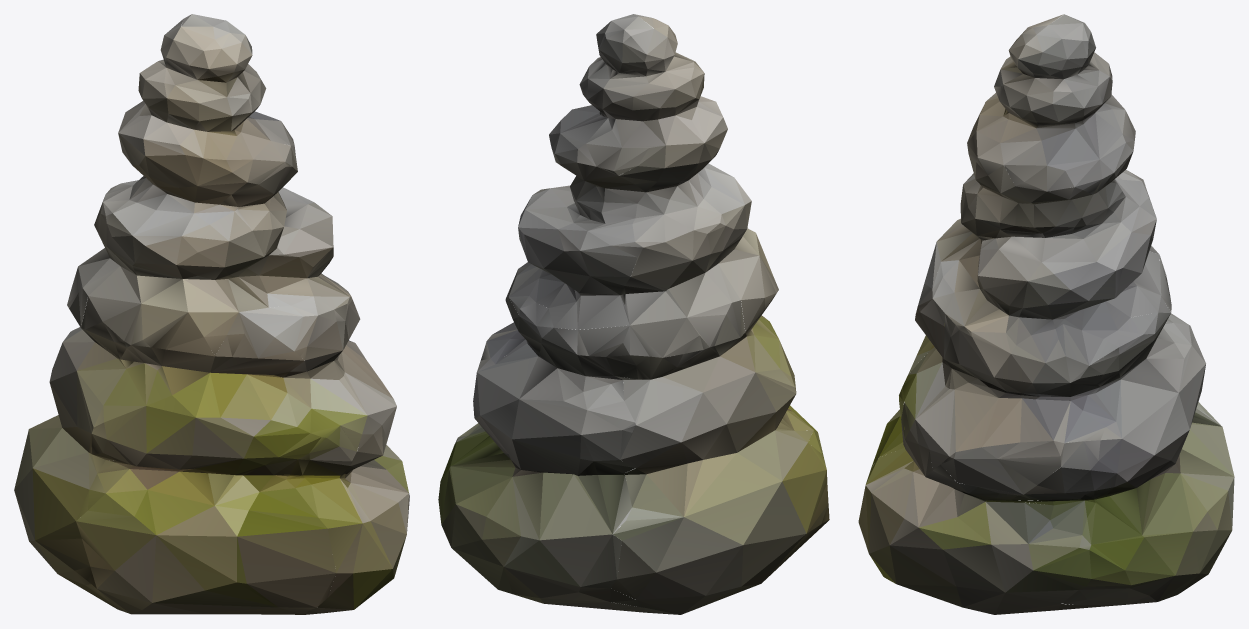
Rendered from land-stoneCairn.glb.
3 views of the same model, side by side, from view 1: azimuth 30°, elevation 25°; view 2: azimuth 150°, elevation 25°; view 3: azimuth 270°, elevation 25° (orthographic). The views are drawn at different scales.
Visible parts, largest first — view 1: 0_stoneCairn; view 2: 0_stoneCairn; view 3: 0_stoneCairn.
Part boxes in pixels (x1,y1,x2,y2): 0_stoneCairn: (14,14,409,614); 0_stoneCairn: (438,14,829,614); 0_stoneCairn: (858,14,1234,614).
Size of the model in its own units: 0.979 by 1.5 by 0.9343.
